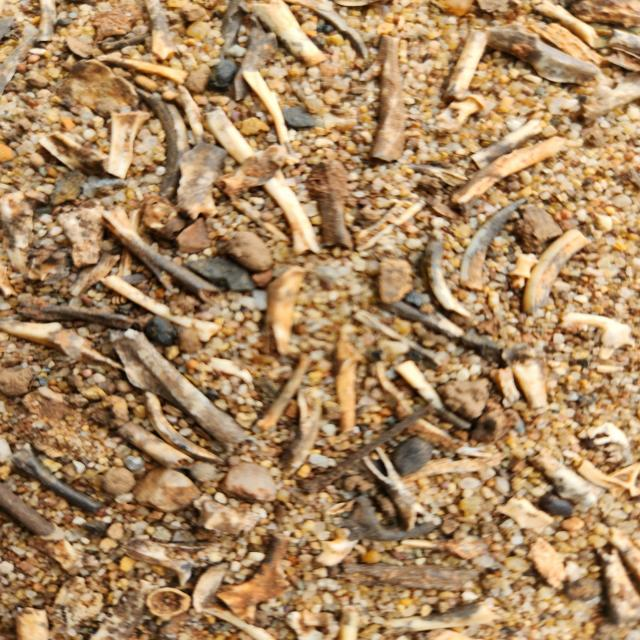fossil: (106, 327, 264, 456), (197, 104, 323, 258), (293, 397, 436, 495), (96, 209, 225, 306), (384, 298, 538, 366), (370, 359, 470, 455), (449, 134, 572, 206), (96, 275, 225, 343), (212, 527, 295, 628), (483, 27, 609, 89), (354, 29, 410, 168), (5, 446, 109, 514), (457, 196, 529, 294), (140, 388, 228, 466), (518, 226, 594, 316), (134, 83, 192, 200), (349, 307, 453, 372), (239, 66, 302, 168), (360, 446, 432, 533), (392, 358, 474, 432), (467, 108, 558, 174), (522, 447, 608, 514), (247, 0, 330, 69), (374, 594, 504, 638), (331, 492, 443, 543), (249, 350, 314, 436), (168, 138, 232, 223), (282, 0, 371, 61), (274, 382, 327, 484), (52, 56, 142, 116), (12, 291, 138, 333), (302, 157, 356, 254), (337, 560, 490, 594), (259, 262, 313, 358), (350, 190, 430, 253), (0, 314, 98, 363), (112, 416, 197, 472), (0, 479, 72, 543), (437, 26, 496, 104), (368, 296, 468, 342), (420, 238, 476, 320), (224, 24, 281, 104), (100, 204, 144, 307), (214, 140, 292, 196), (556, 309, 638, 362), (121, 534, 198, 587), (197, 0, 247, 81), (527, 19, 606, 70), (332, 328, 368, 439), (187, 492, 272, 539), (570, 71, 640, 128), (51, 203, 108, 272), (102, 106, 154, 180), (128, 465, 204, 515), (84, 583, 150, 640), (420, 92, 499, 139), (532, 0, 604, 49), (595, 544, 640, 621), (0, 13, 42, 94), (229, 195, 292, 249), (38, 130, 112, 175), (134, 191, 188, 251), (96, 54, 196, 86), (398, 528, 498, 560), (398, 453, 506, 482), (490, 492, 559, 536), (50, 574, 104, 629), (576, 420, 636, 469), (431, 374, 494, 420), (15, 386, 91, 424), (202, 603, 280, 640), (513, 204, 568, 256), (65, 250, 122, 300), (138, 0, 184, 61), (575, 456, 640, 499), (505, 354, 554, 410), (601, 521, 640, 587), (523, 535, 569, 590), (190, 558, 233, 616), (0, 188, 38, 251), (563, 0, 640, 30), (311, 525, 362, 568), (374, 257, 416, 308), (401, 161, 473, 189), (85, 6, 139, 43), (469, 407, 522, 444), (82, 392, 130, 432), (170, 212, 214, 255), (48, 165, 94, 206), (27, 246, 73, 287), (284, 606, 339, 640), (177, 84, 209, 142), (144, 584, 193, 621), (46, 539, 91, 578), (486, 365, 524, 411), (0, 362, 43, 399), (97, 28, 164, 51), (162, 100, 189, 157), (9, 605, 52, 640), (96, 464, 138, 496), (602, 44, 640, 77), (36, 0, 62, 47), (332, 602, 363, 640), (452, 442, 506, 460), (5, 240, 29, 279), (424, 625, 486, 640), (606, 25, 640, 52), (0, 260, 21, 302), (62, 33, 93, 60), (0, 12, 20, 45)
